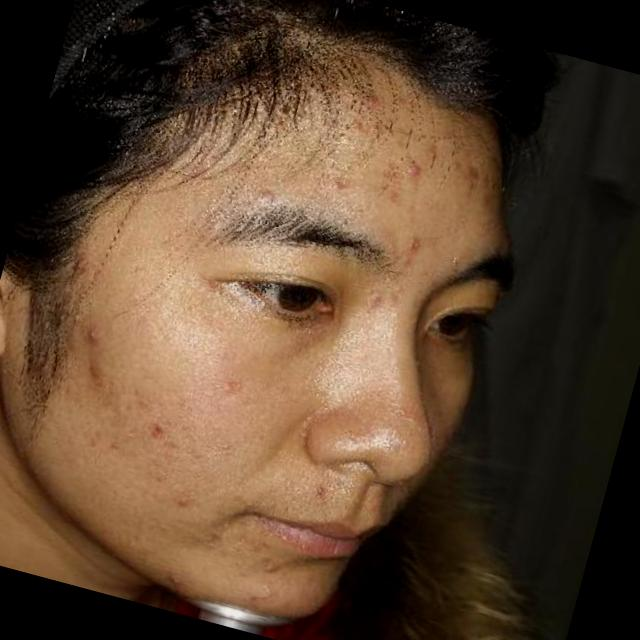nodules: (75, 320, 106, 354), (254, 552, 290, 580), (249, 181, 283, 210), (398, 230, 429, 258), (321, 170, 351, 198), (362, 285, 388, 310), (70, 251, 94, 276), (403, 159, 427, 182), (170, 493, 194, 512)
